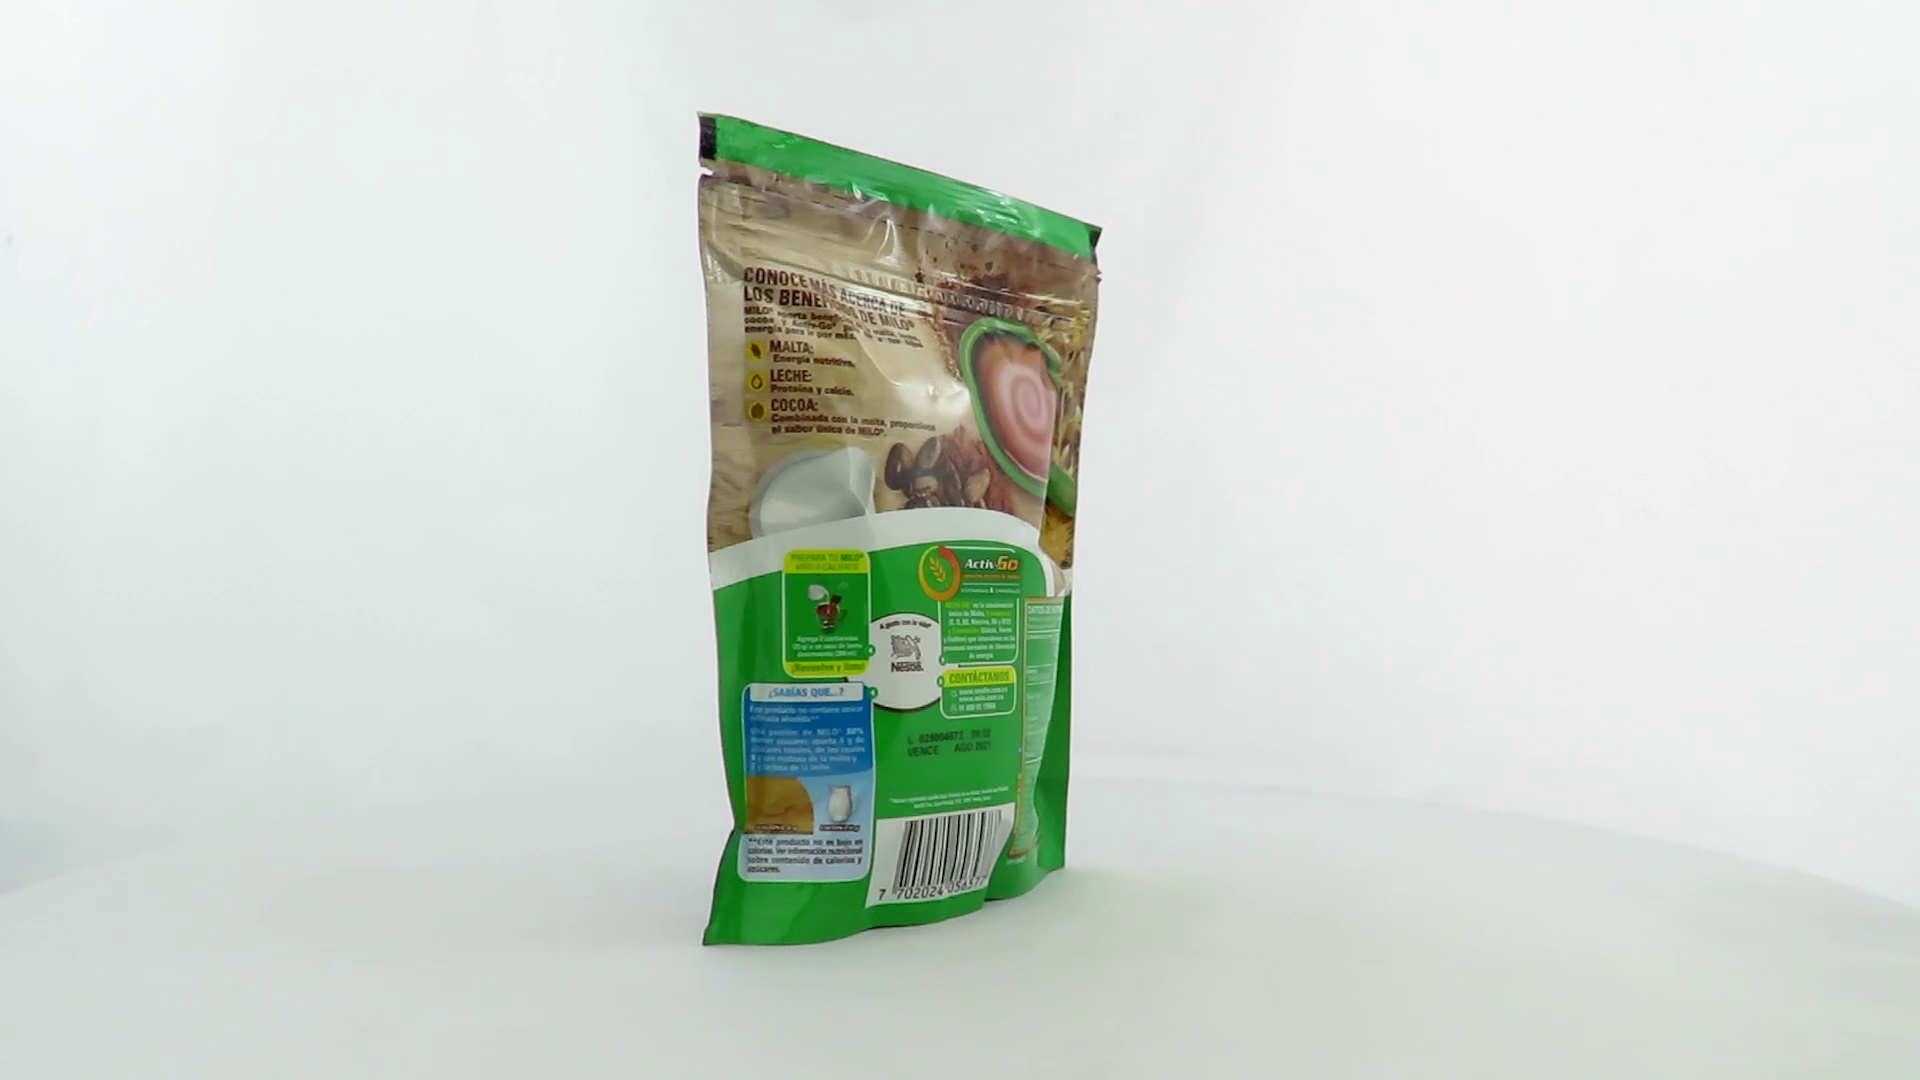COL0170205DYP20000: (691, 105, 1109, 953)
